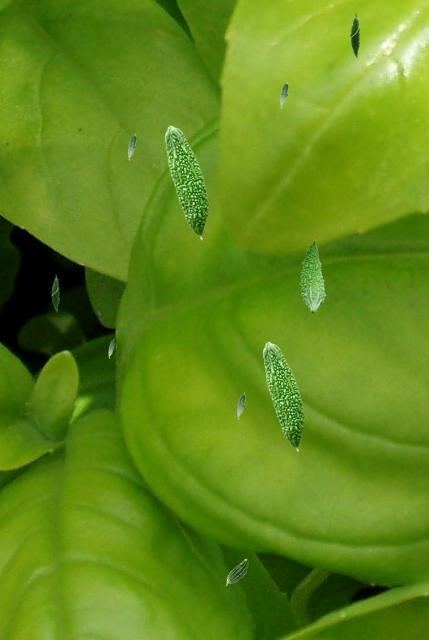ampalaya: (164, 125, 210, 241), (262, 341, 306, 453), (299, 238, 326, 314), (225, 558, 248, 586), (349, 12, 361, 58), (50, 274, 60, 313), (236, 392, 245, 419), (127, 133, 136, 160), (279, 81, 288, 108), (108, 338, 115, 358)
